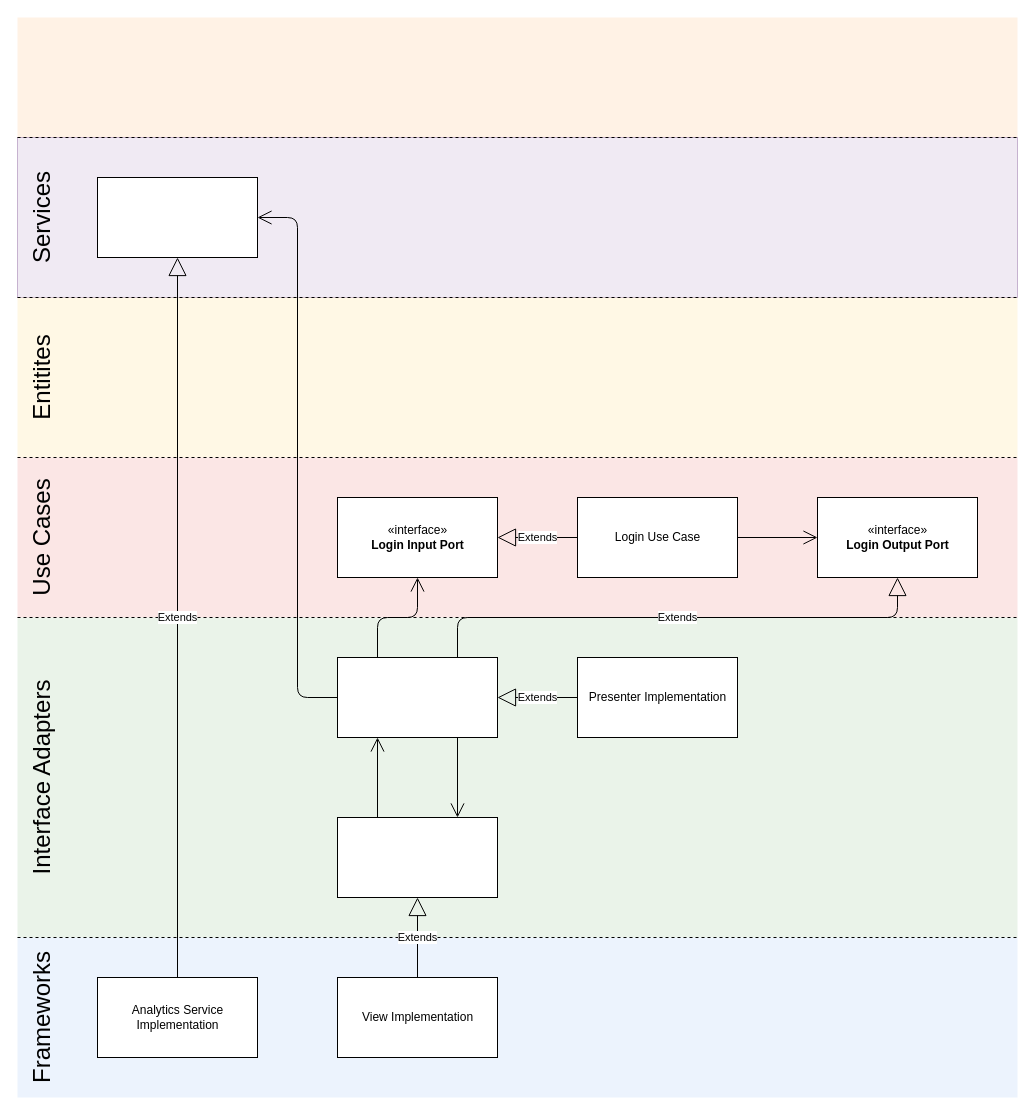
The diagram is 1036 pixels wide and 1114 high, and some of its shapes have lost their labels. The shapes that lost their labels are listed below. From the top down, each one's centre as x and y in pixels, then its label:
At pixel 517 77: "Utils".
At pixel 177 217: "«interface» Analytics Service".
At pixel 417 697: "«interface» Presenter".
At pixel 417 857: "«interface» View".
